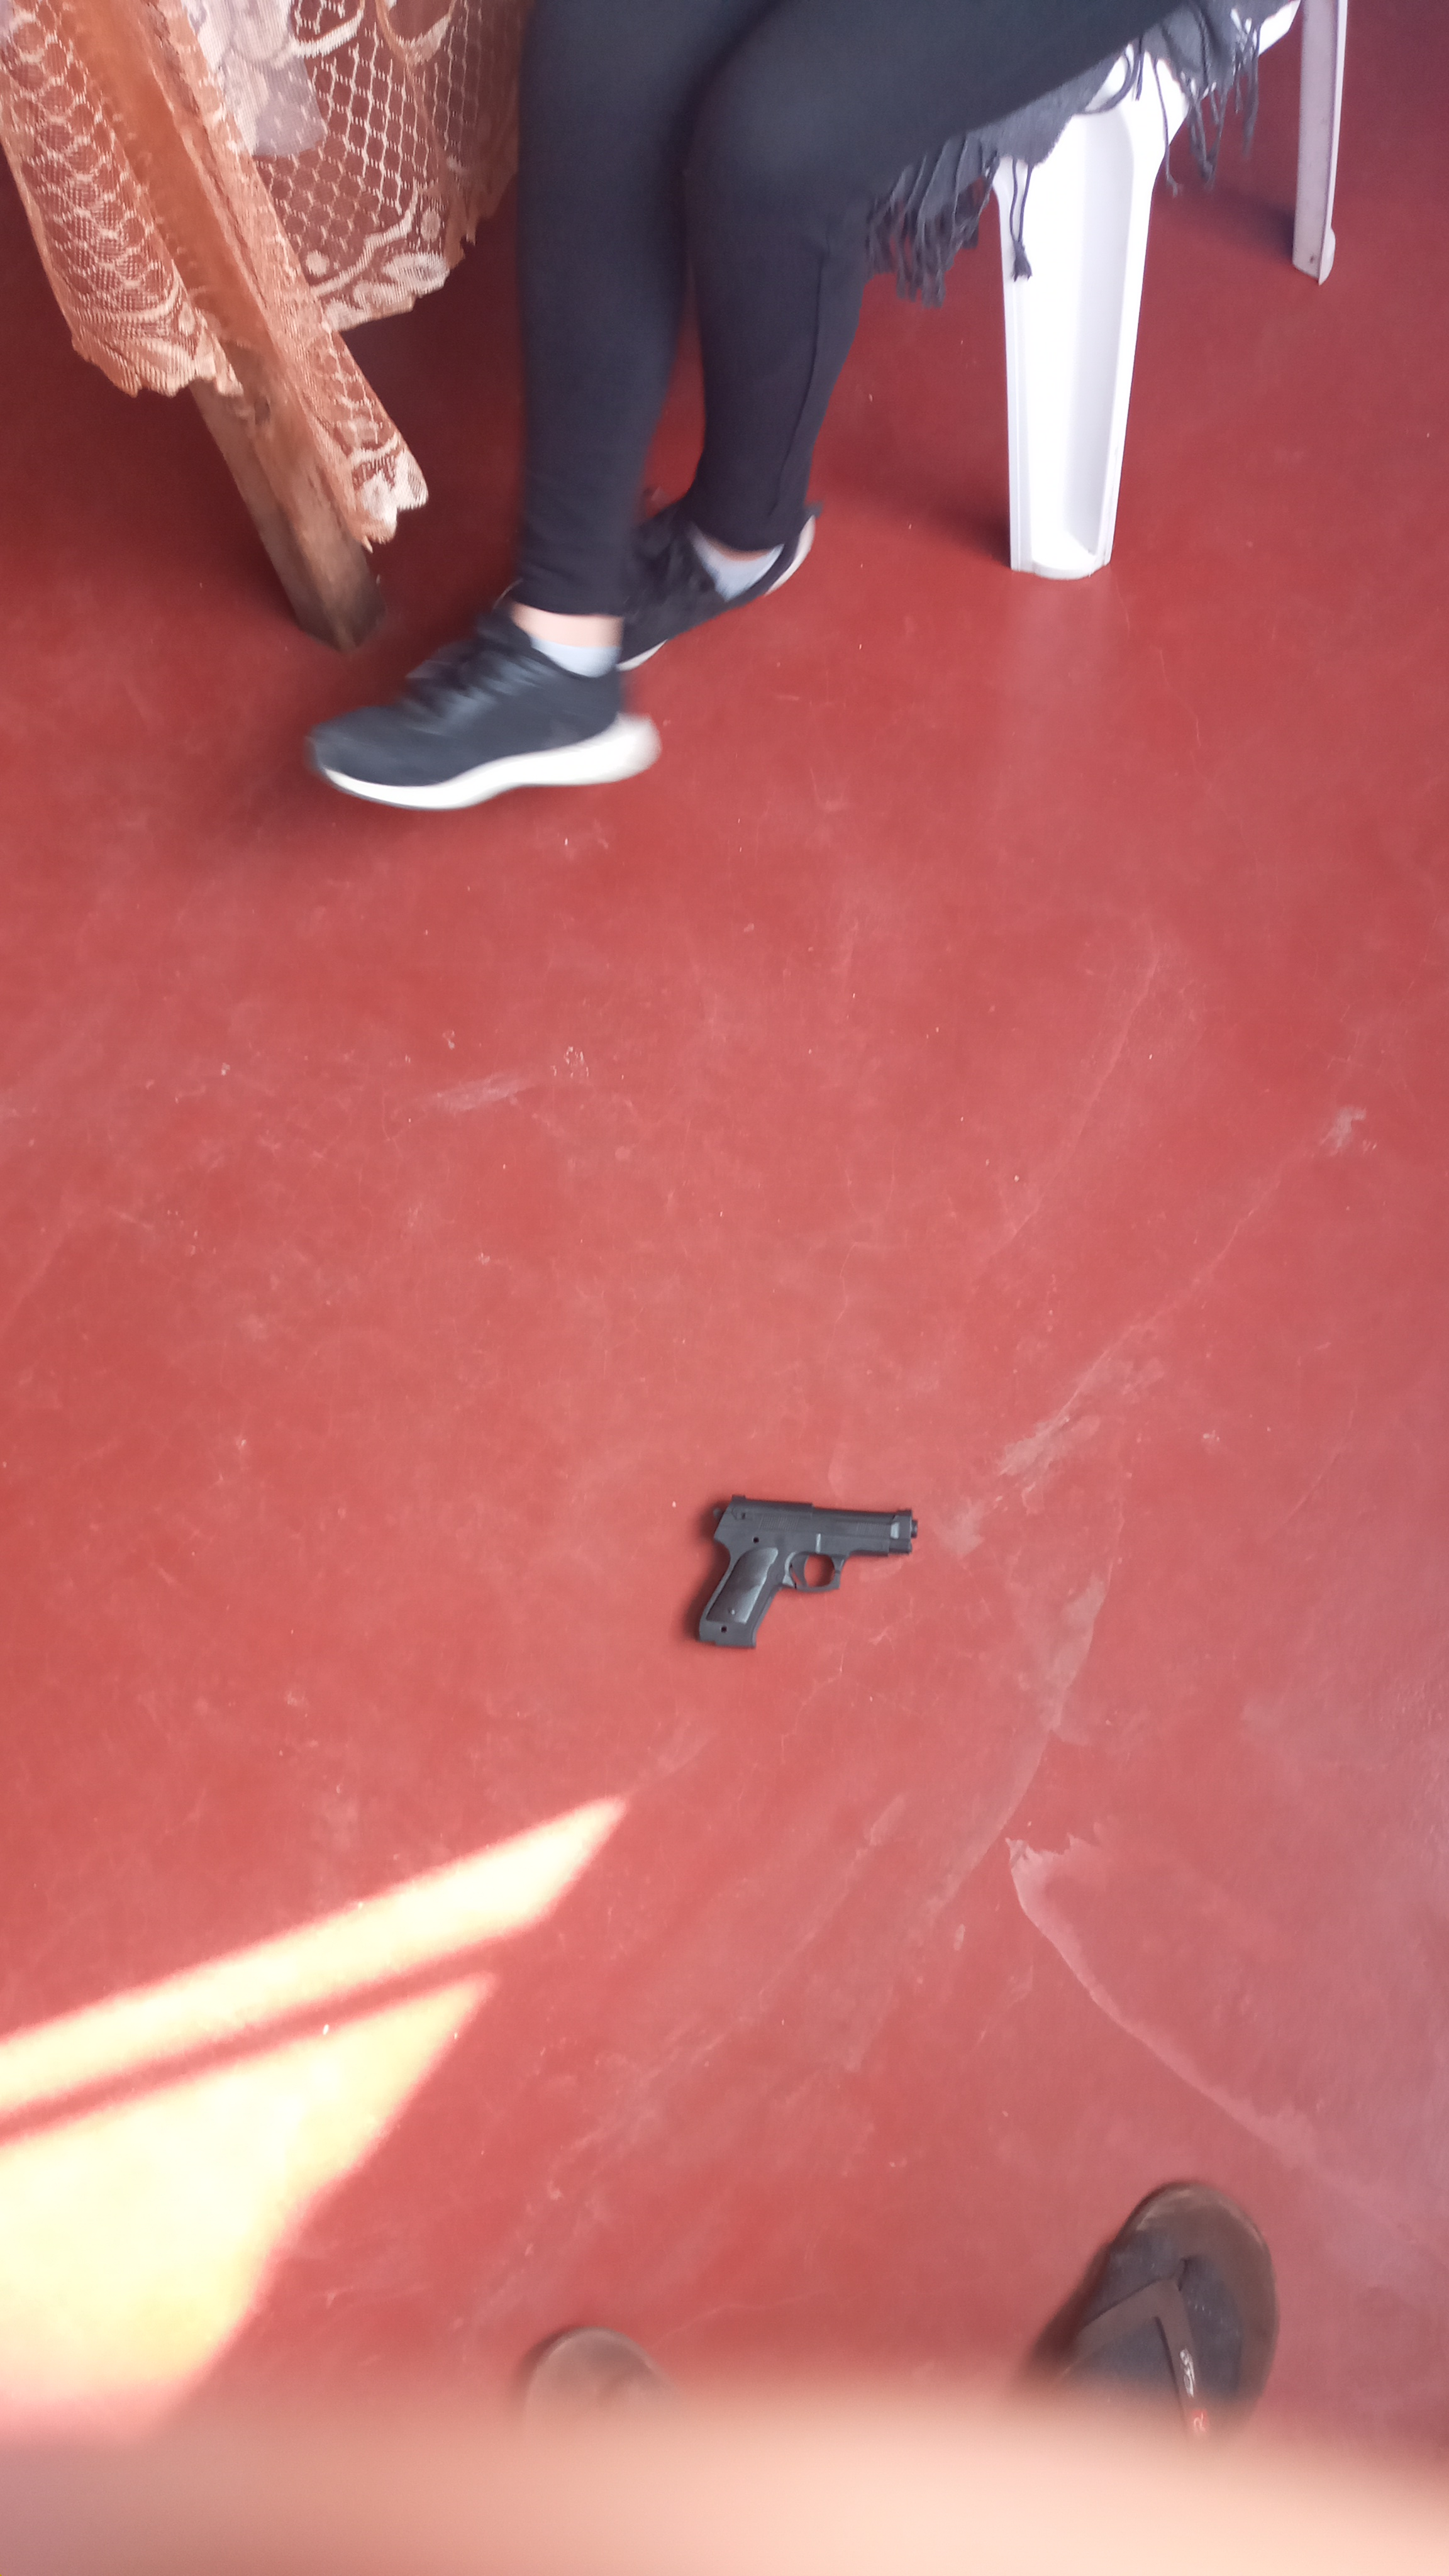Arma: (683, 1493, 927, 1603)
